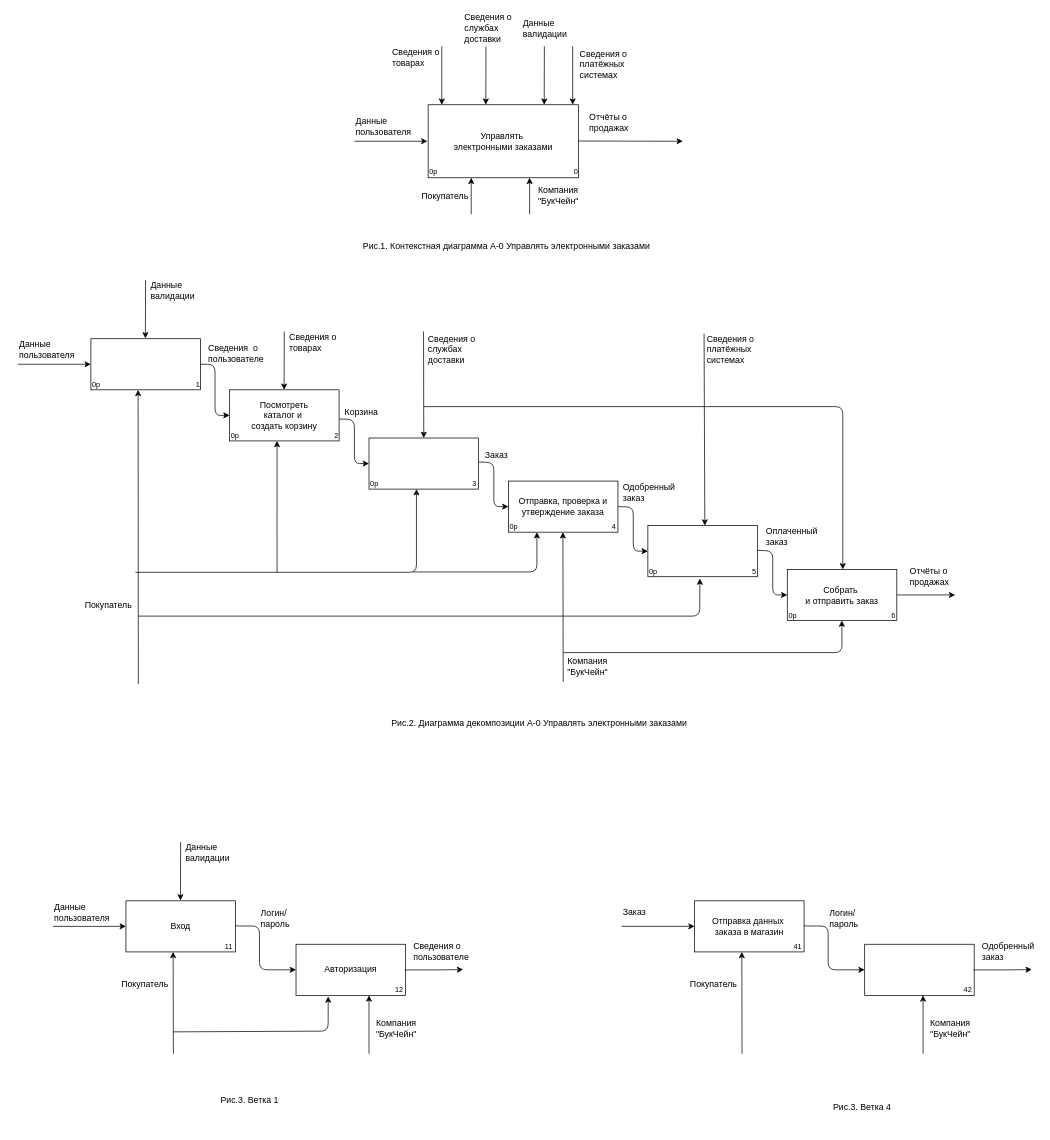
This 1050x1140 diagram has some shape labels left out. Each missing label, with the box of its shape:
Вход в систему: (90, 338, 200, 390)
Оплатить заказ: (647, 525, 757, 577)
Проверка товаров на наличие / бронирование: (864, 944, 974, 995)
Создать заказ: (368, 437, 479, 489)
